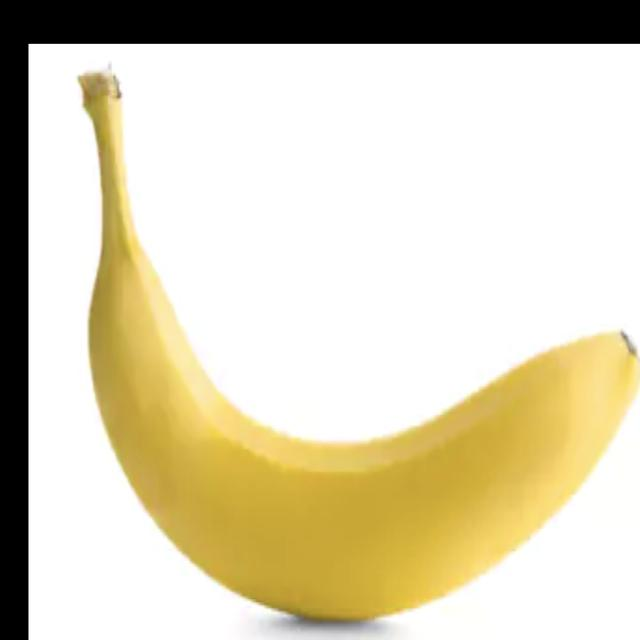Ripe: (61, 55, 640, 635)
